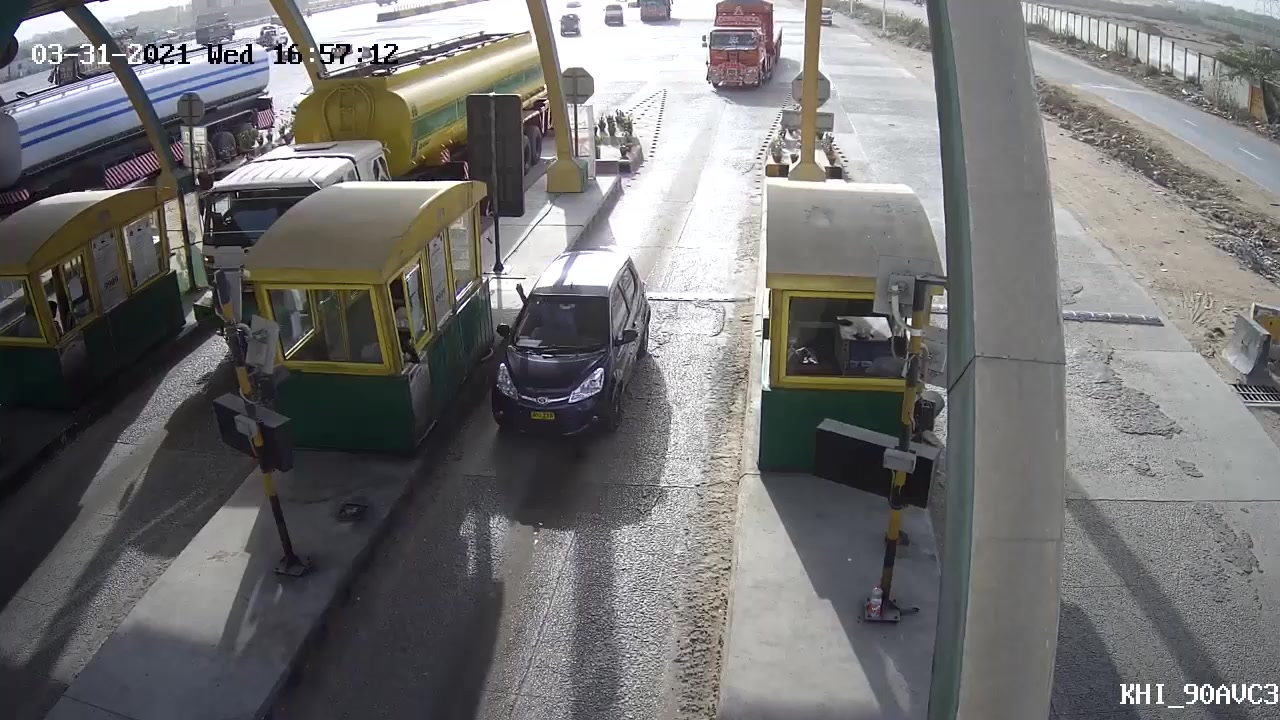F1: (483, 246, 659, 459)
